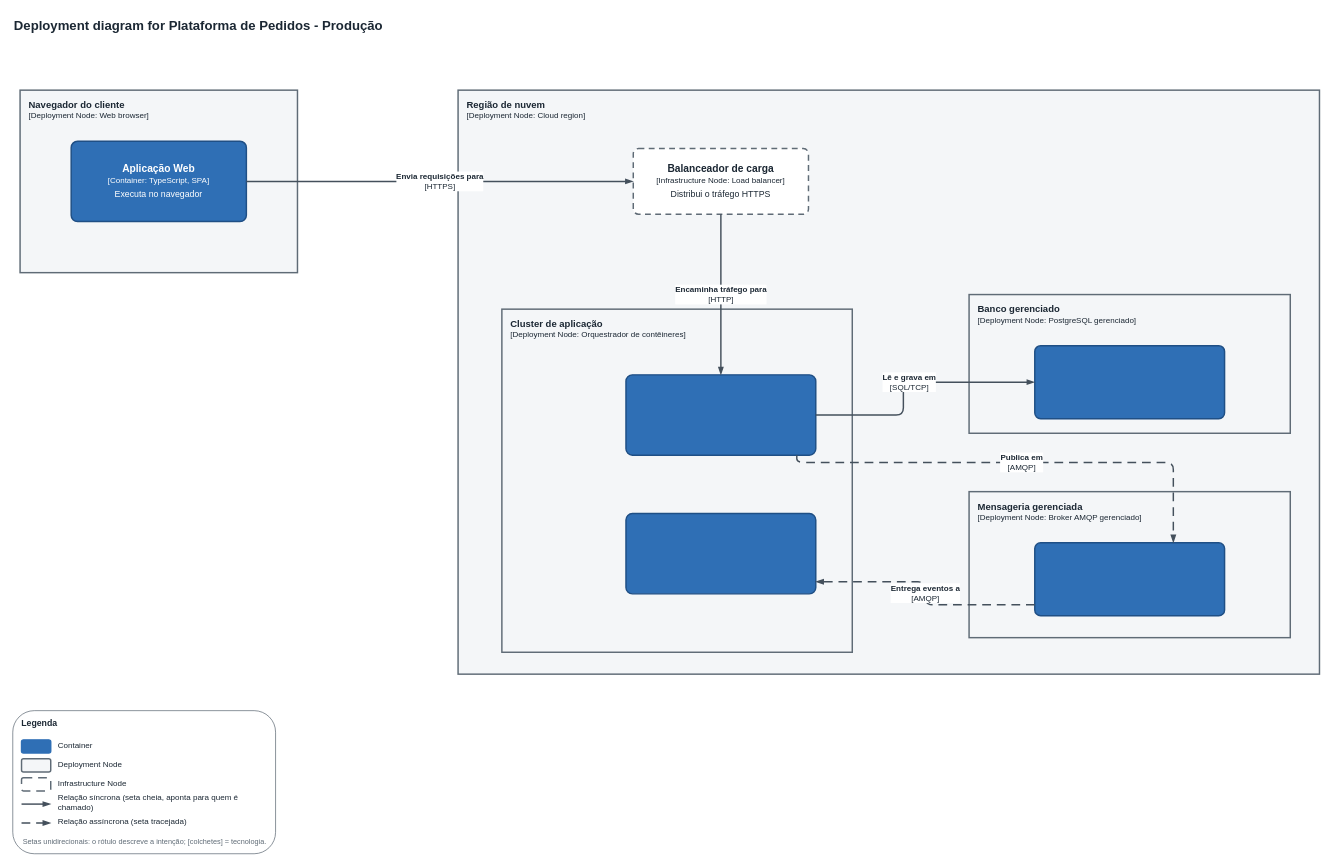
This 1333x867 diagram has some shape labels left out. The centre of each missing label's shape, as x and y in pixels:
"API de Pedidos (x2 instâncias) [Container: Node.js] Atende as requisições" goes at point 720,415.
"Banco de Pedidos [Container: PostgreSQL] Dados transacionais" goes at point 1129,382.
"Fila de Eventos [Container: AMQP] Eventos de pedido" goes at point 1129,579.
"Worker de Notificações [Container: Node.js] Consome a fila" goes at point 720,553.
